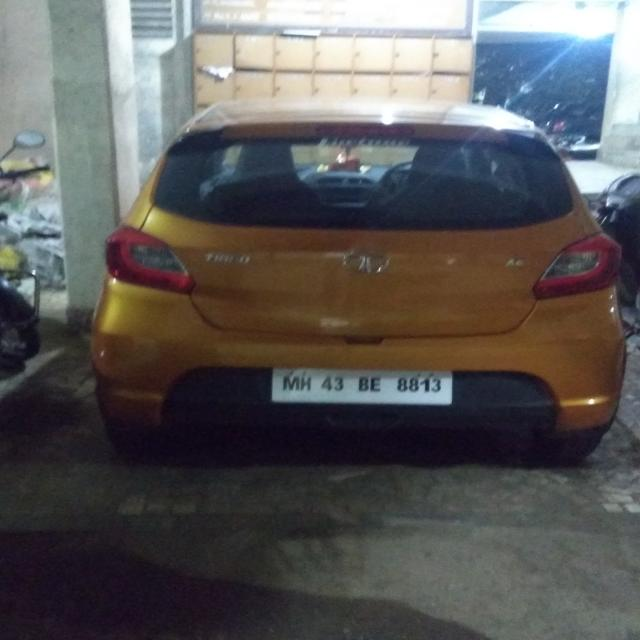Number-Plate: (274, 366, 450, 404)
